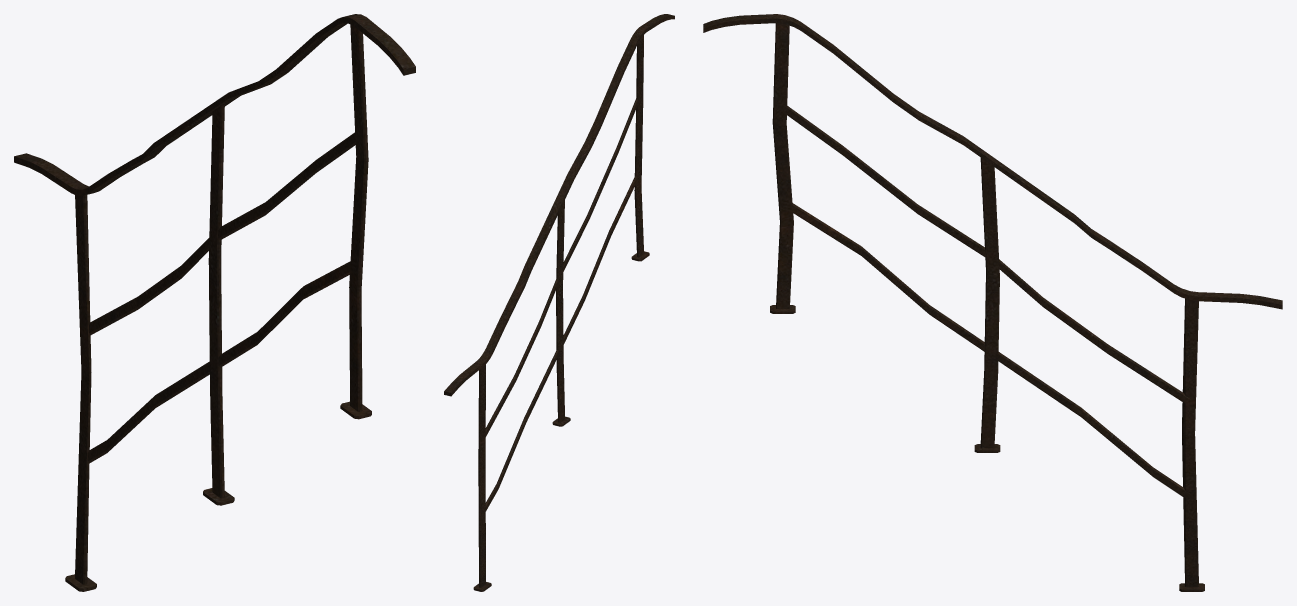
The model's file is hand_rail_1.dae.
The picture shows the model from 3 angles, left to right: view 1: azimuth 30°, elevation 25°; view 2: azimuth 150°, elevation 25°; view 3: azimuth 270°, elevation 25°; orthographic projection. The views are drawn at different scales.
Parts seen in each view (by area): view 1: hand_rail_1; view 2: hand_rail_1; view 3: hand_rail_1.
Part boxes in pixels (x1=…): hand_rail_1: x1=14, y1=14, x2=415, y2=591; hand_rail_1: x1=444, y1=14, x2=674, y2=591; hand_rail_1: x1=703, y1=14, x2=1282, y2=591.
Size of the model in its own units: 0.06 by 2.26 by 2.47.
1 material, 1 textured.
